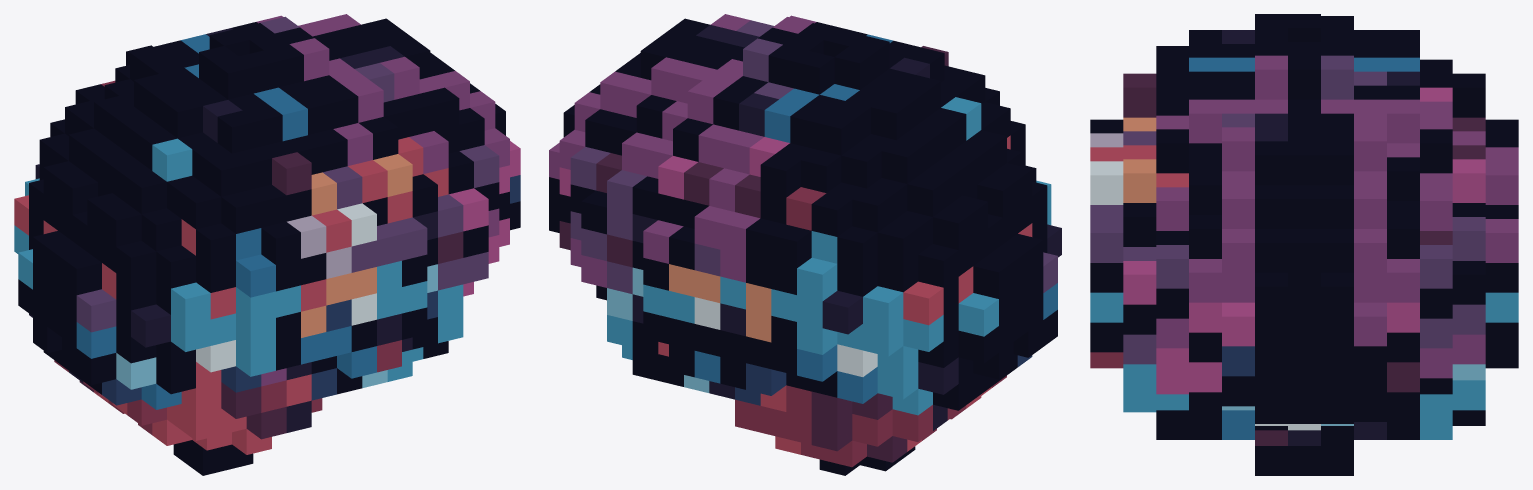
The model's file is koro.glb.
3 views of the same model, side by side, from view 1: azimuth 30°, elevation 25°; view 2: azimuth 150°, elevation 25°; view 3: azimuth 270°, elevation 25° (orthographic). The views are drawn at different scales.
Parts seen in each view (by area): view 1: world; view 2: world; view 3: world.
Boxes of the visible parts, x1,y1,x2,y2 form: world: [14, 14, 520, 475]; world: [549, 14, 1061, 475]; world: [1090, 14, 1518, 475].
Size of the model in its own units: 1.09 by 0.9647 by 0.8361.
Materials: 1 (1 with a texture image).
